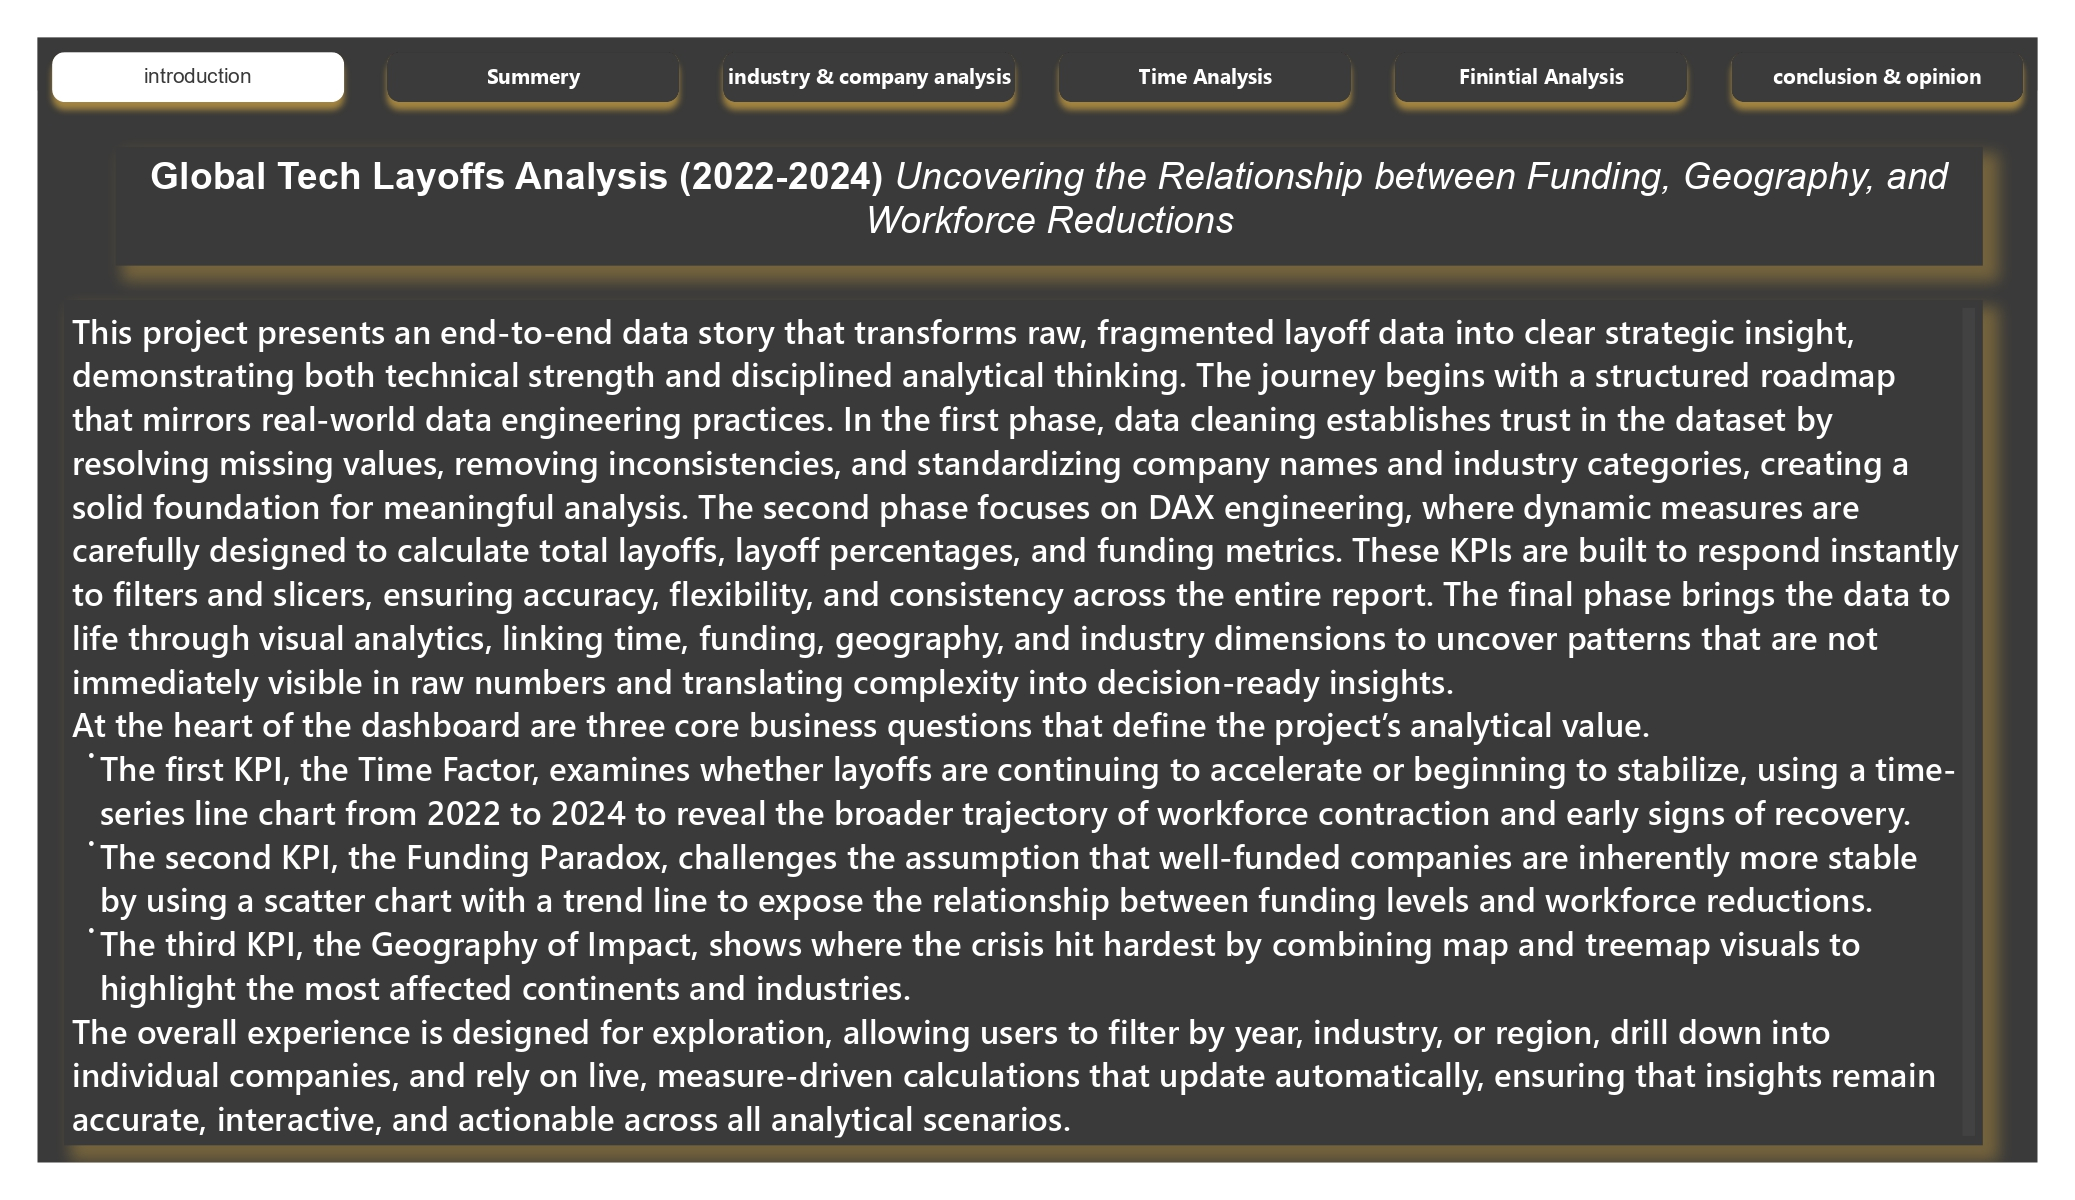

Layout of this report page (visuals, bound fields, positions):
{"tool":"powerbi","page":{"name":"introduction ","canvas":[1280,720],"ordinal":0},"visuals":[{"type":"pageNavigator","box":[0,0,1280,49.8],"z":0},{"type":"textbox","box":[49.6,70,1195.4,75.9],"z":1000},{"type":"textbox","box":[16.5,168.3,1228.4,540.8],"z":2000}]}

Visuals, with their boxes in screenshot pixels (x1, y1, x2, y2):
pageNavigator: pyautogui.locateOnScreen(38, 38, 2038, 115)
textbox: pyautogui.locateOnScreen(115, 147, 1983, 265)
textbox: pyautogui.locateOnScreen(63, 300, 1983, 1145)
